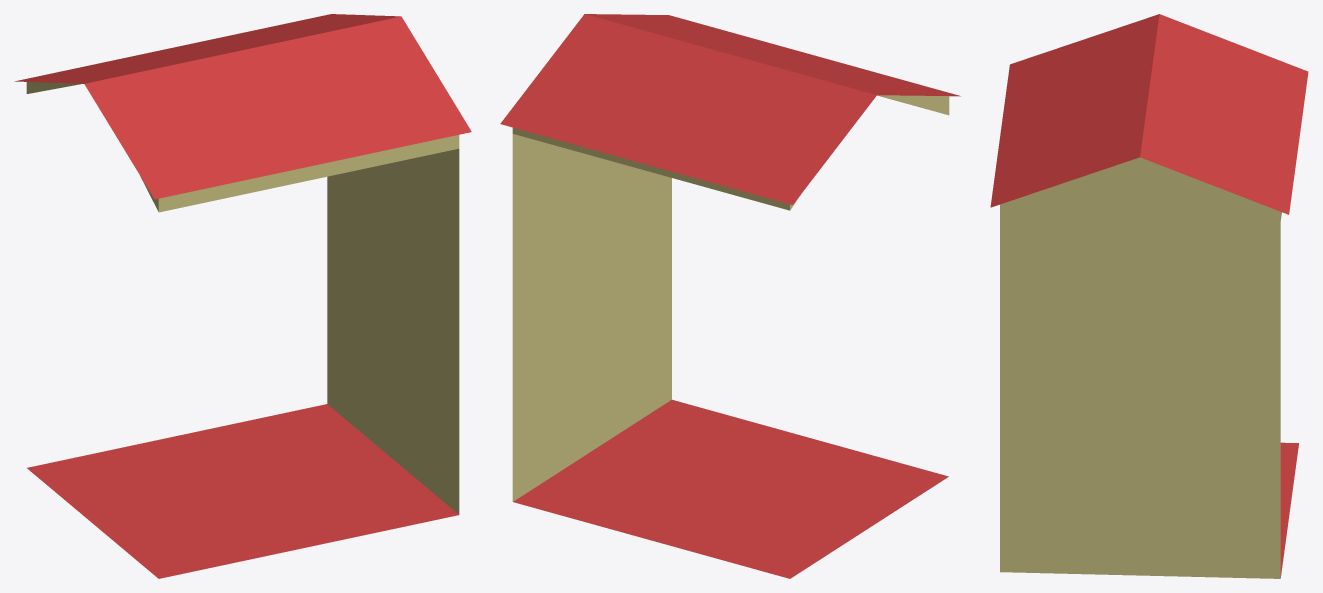
3 views of the same model, side by side, from view 1: azimuth 30°, elevation 25°; view 2: azimuth 150°, elevation 25°; view 3: azimuth 270°, elevation 25° (orthographic). The views are drawn at different scales.
Bounding box in the file's own units: 10.02 × 8.95 × 13.1.
